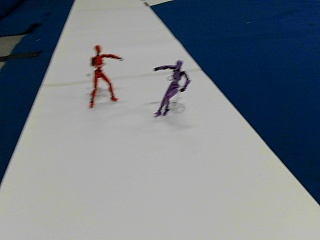pedestrian: (88, 44, 122, 106), (153, 58, 189, 116)
